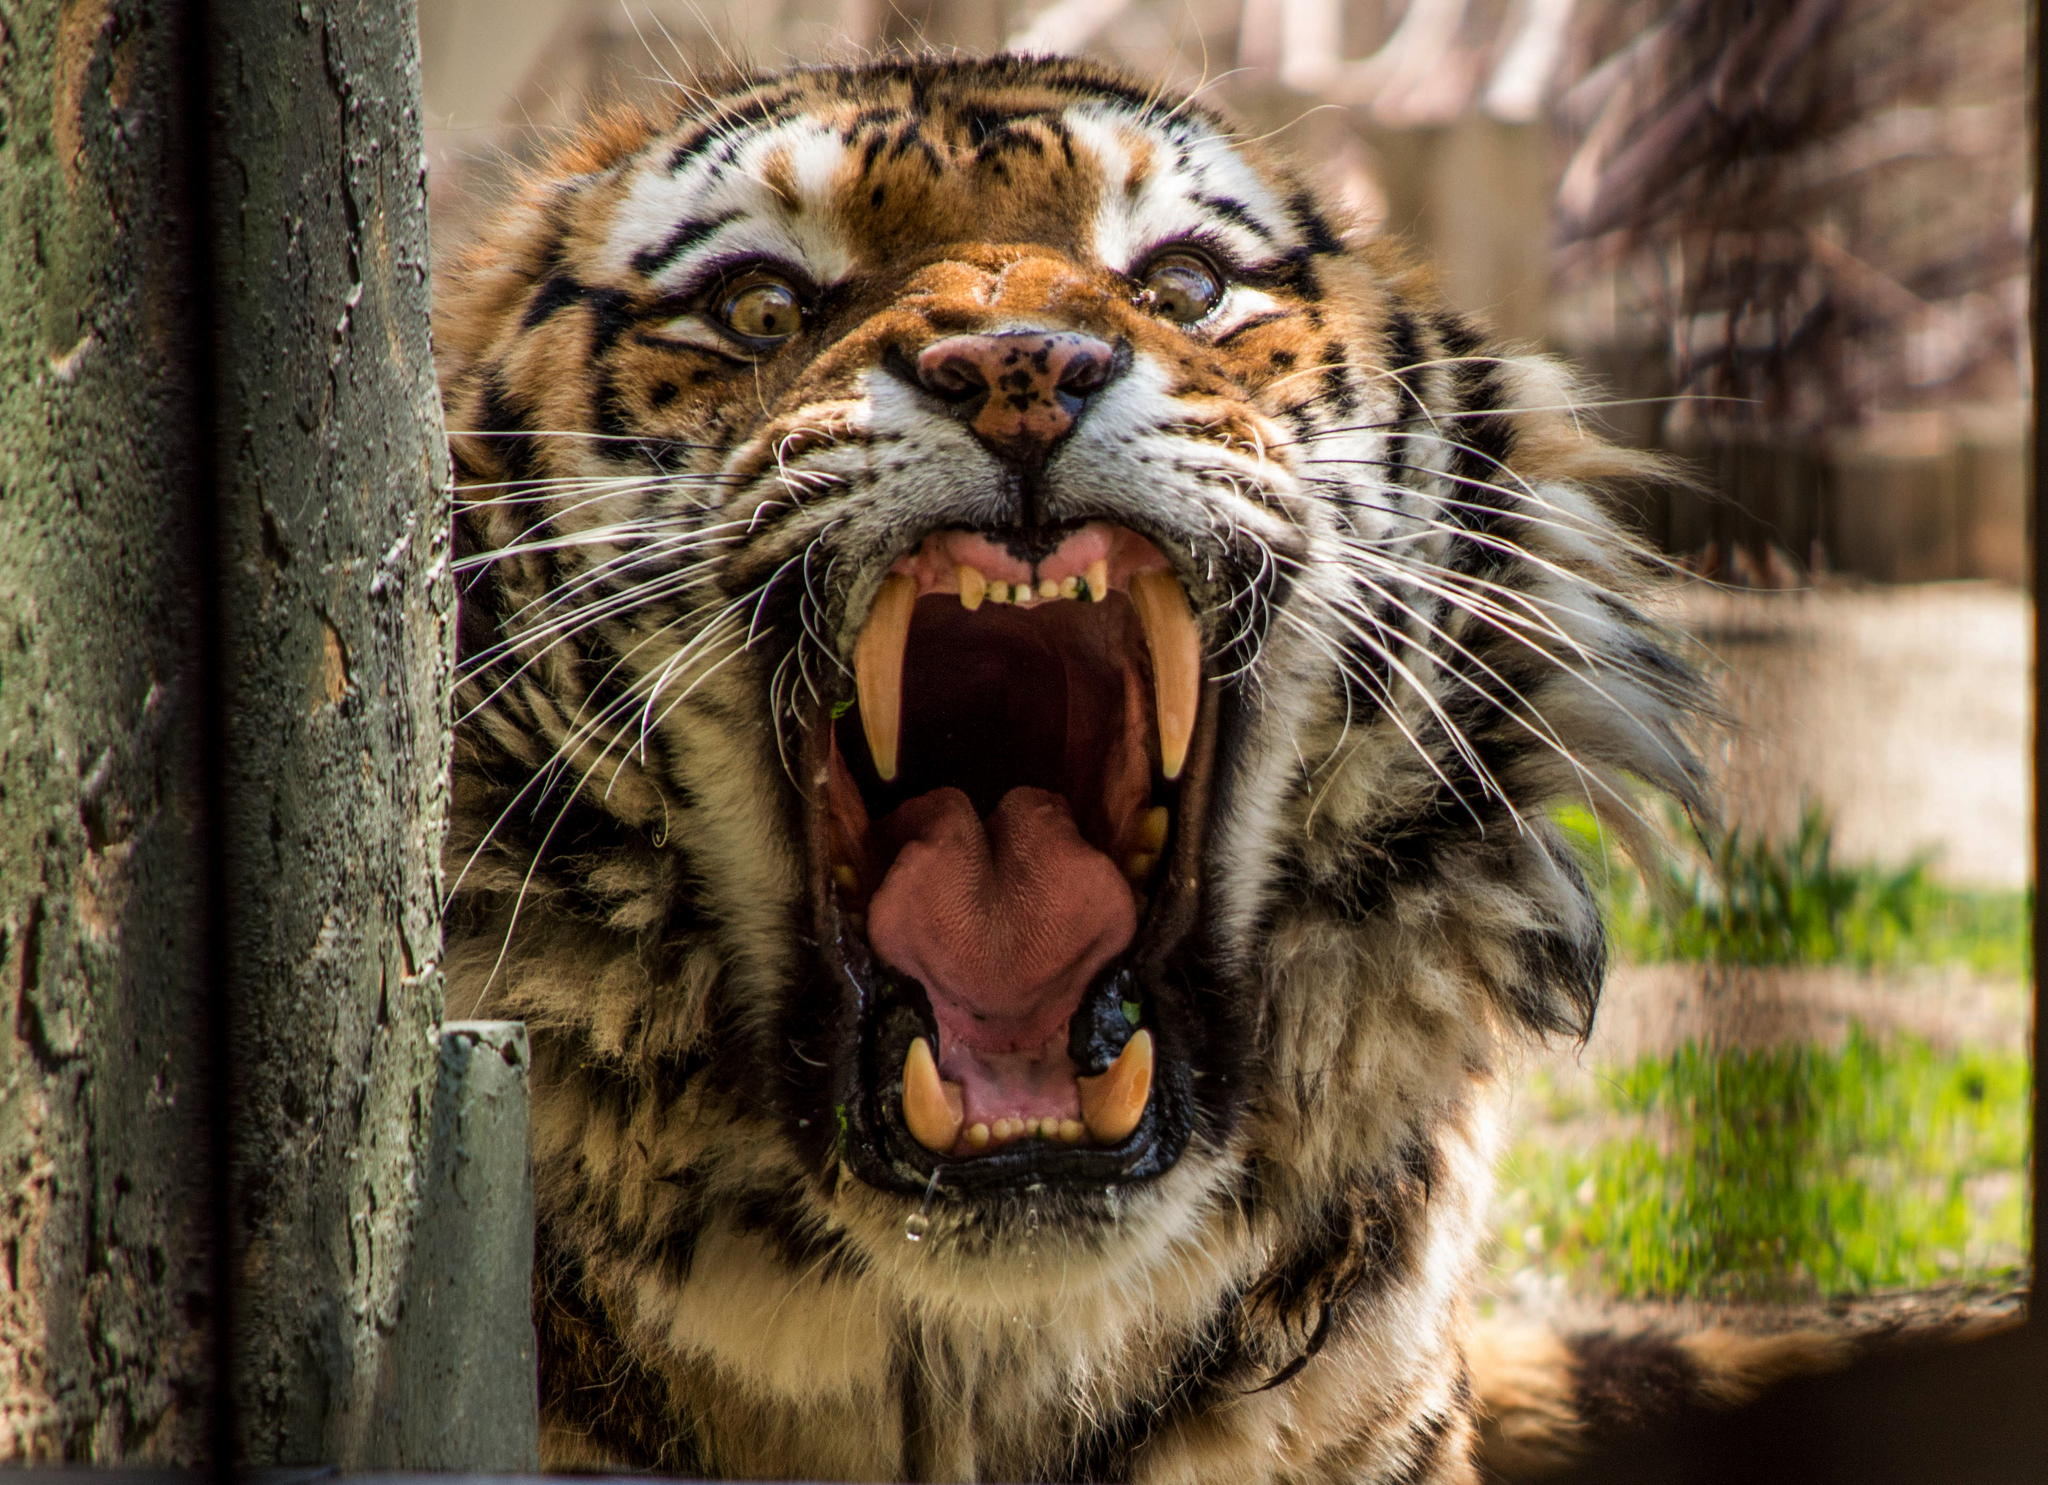tiger: (432, 41, 1612, 1440)
